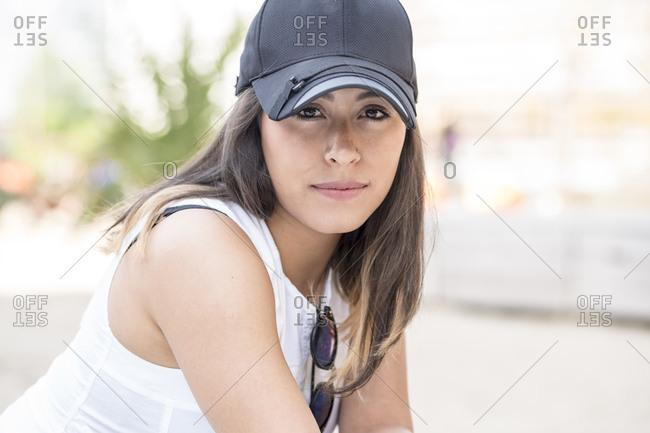cap: (228, 0, 430, 136)
